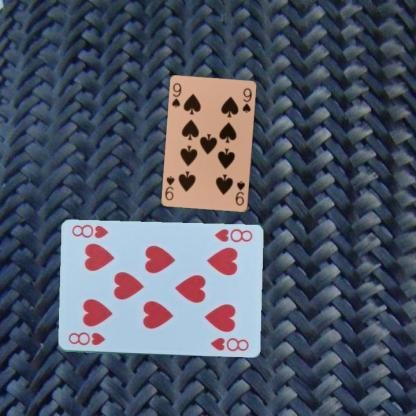8h: (211, 226, 254, 244), (66, 330, 106, 348)
9s: (232, 178, 247, 207), (169, 80, 183, 110)
